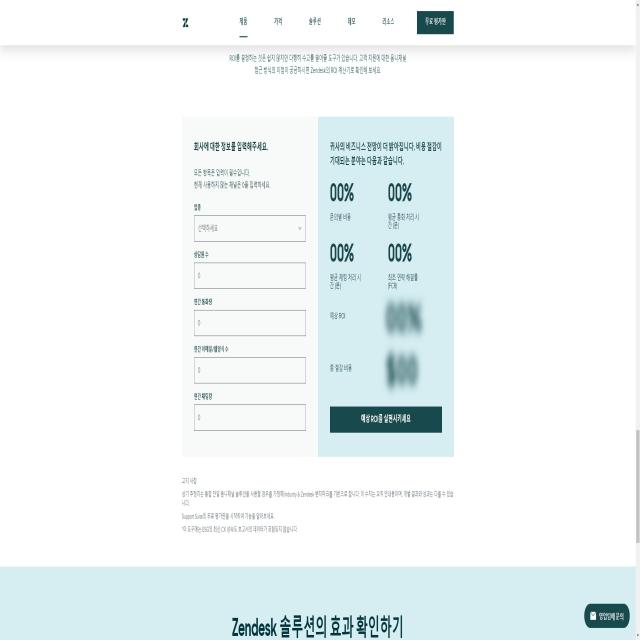content: (179, 468, 453, 532)
tab-bar: (232, 9, 458, 43)
